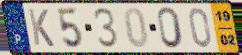0: (156, 6, 185, 50), (122, 6, 150, 50), (187, 6, 213, 49)
3: (93, 7, 119, 50)
5: (56, 7, 84, 50)
K: (27, 8, 57, 49)
